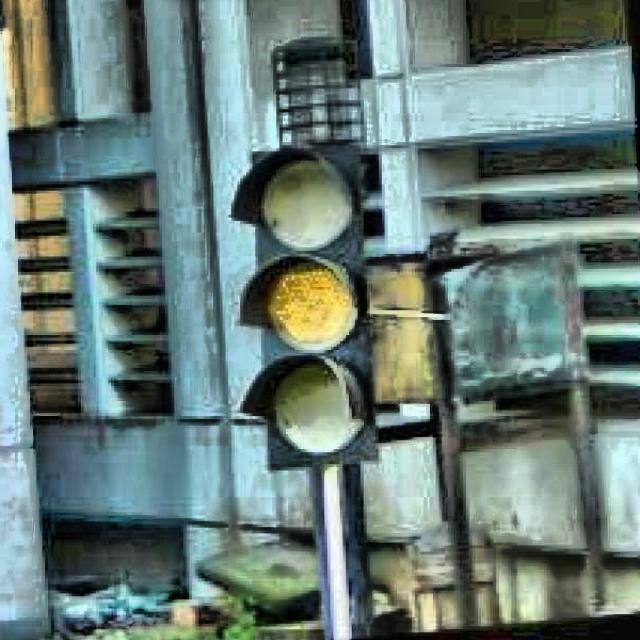yellow: (245, 160, 374, 466)
